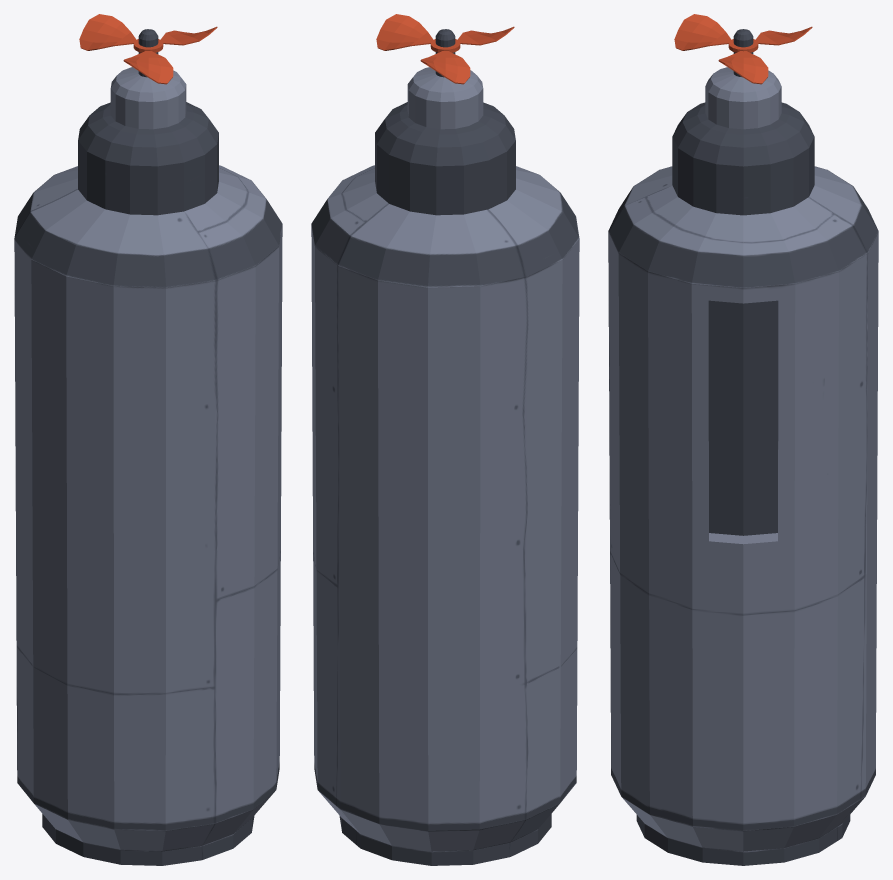
Rendered from fuel_tank.fbx.
3 renders of one model, left to right at view 1: azimuth 30°, elevation 25°; view 2: azimuth 150°, elevation 25°; view 3: azimuth 270°, elevation 25°, orthographic.
Parts seen in each view (by area): view 1: tank, Turbine; view 2: tank, Turbine; view 3: tank, Turbine.
Boxes of the visible parts, x1,y1,x2,y2 form: tank: [14, 29, 282, 865]; Turbine: [79, 14, 217, 84]; tank: [311, 29, 579, 865]; Turbine: [376, 14, 514, 84]; tank: [608, 29, 878, 865]; Turbine: [674, 14, 812, 84].
Size of the model in its own units: 49.66 by 160 by 49.66.
